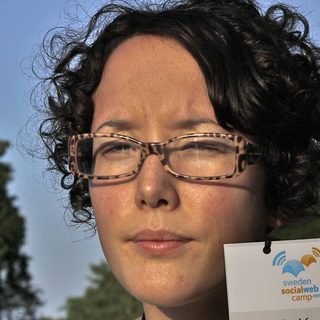eye: (175, 134, 232, 166), (95, 139, 141, 162)
